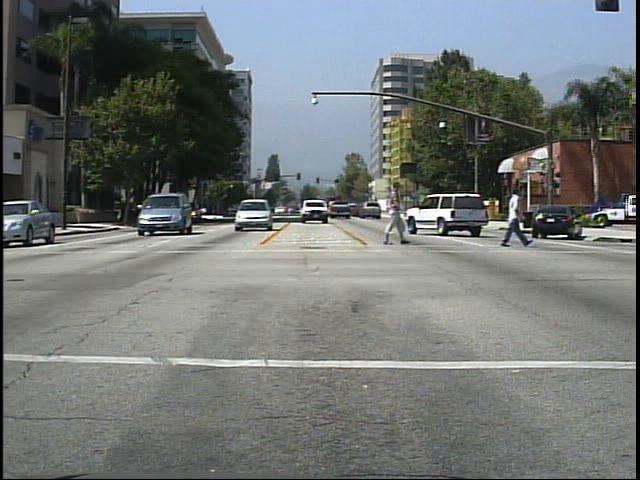person: (494, 179, 531, 254), (376, 176, 413, 250)
